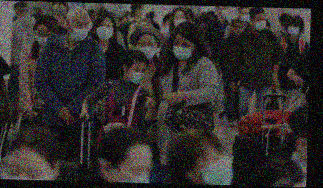with_mask: (193, 145, 236, 185), (115, 159, 155, 183), (171, 39, 194, 63), (135, 38, 157, 62), (69, 19, 89, 43), (94, 22, 115, 41), (128, 65, 147, 85), (33, 28, 52, 48), (173, 13, 188, 29), (252, 16, 267, 31), (285, 24, 302, 37), (53, 2, 67, 17), (219, 6, 230, 19), (138, 6, 147, 20), (240, 11, 250, 23)
without_mask: (231, 21, 243, 36)
